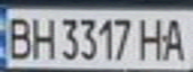1: (97, 15, 118, 61)
3: (57, 14, 81, 62), (78, 15, 100, 61)
7: (112, 15, 136, 61)
A: (157, 14, 190, 62)
B: (3, 14, 36, 61)
H: (136, 14, 169, 62), (27, 14, 57, 61)
